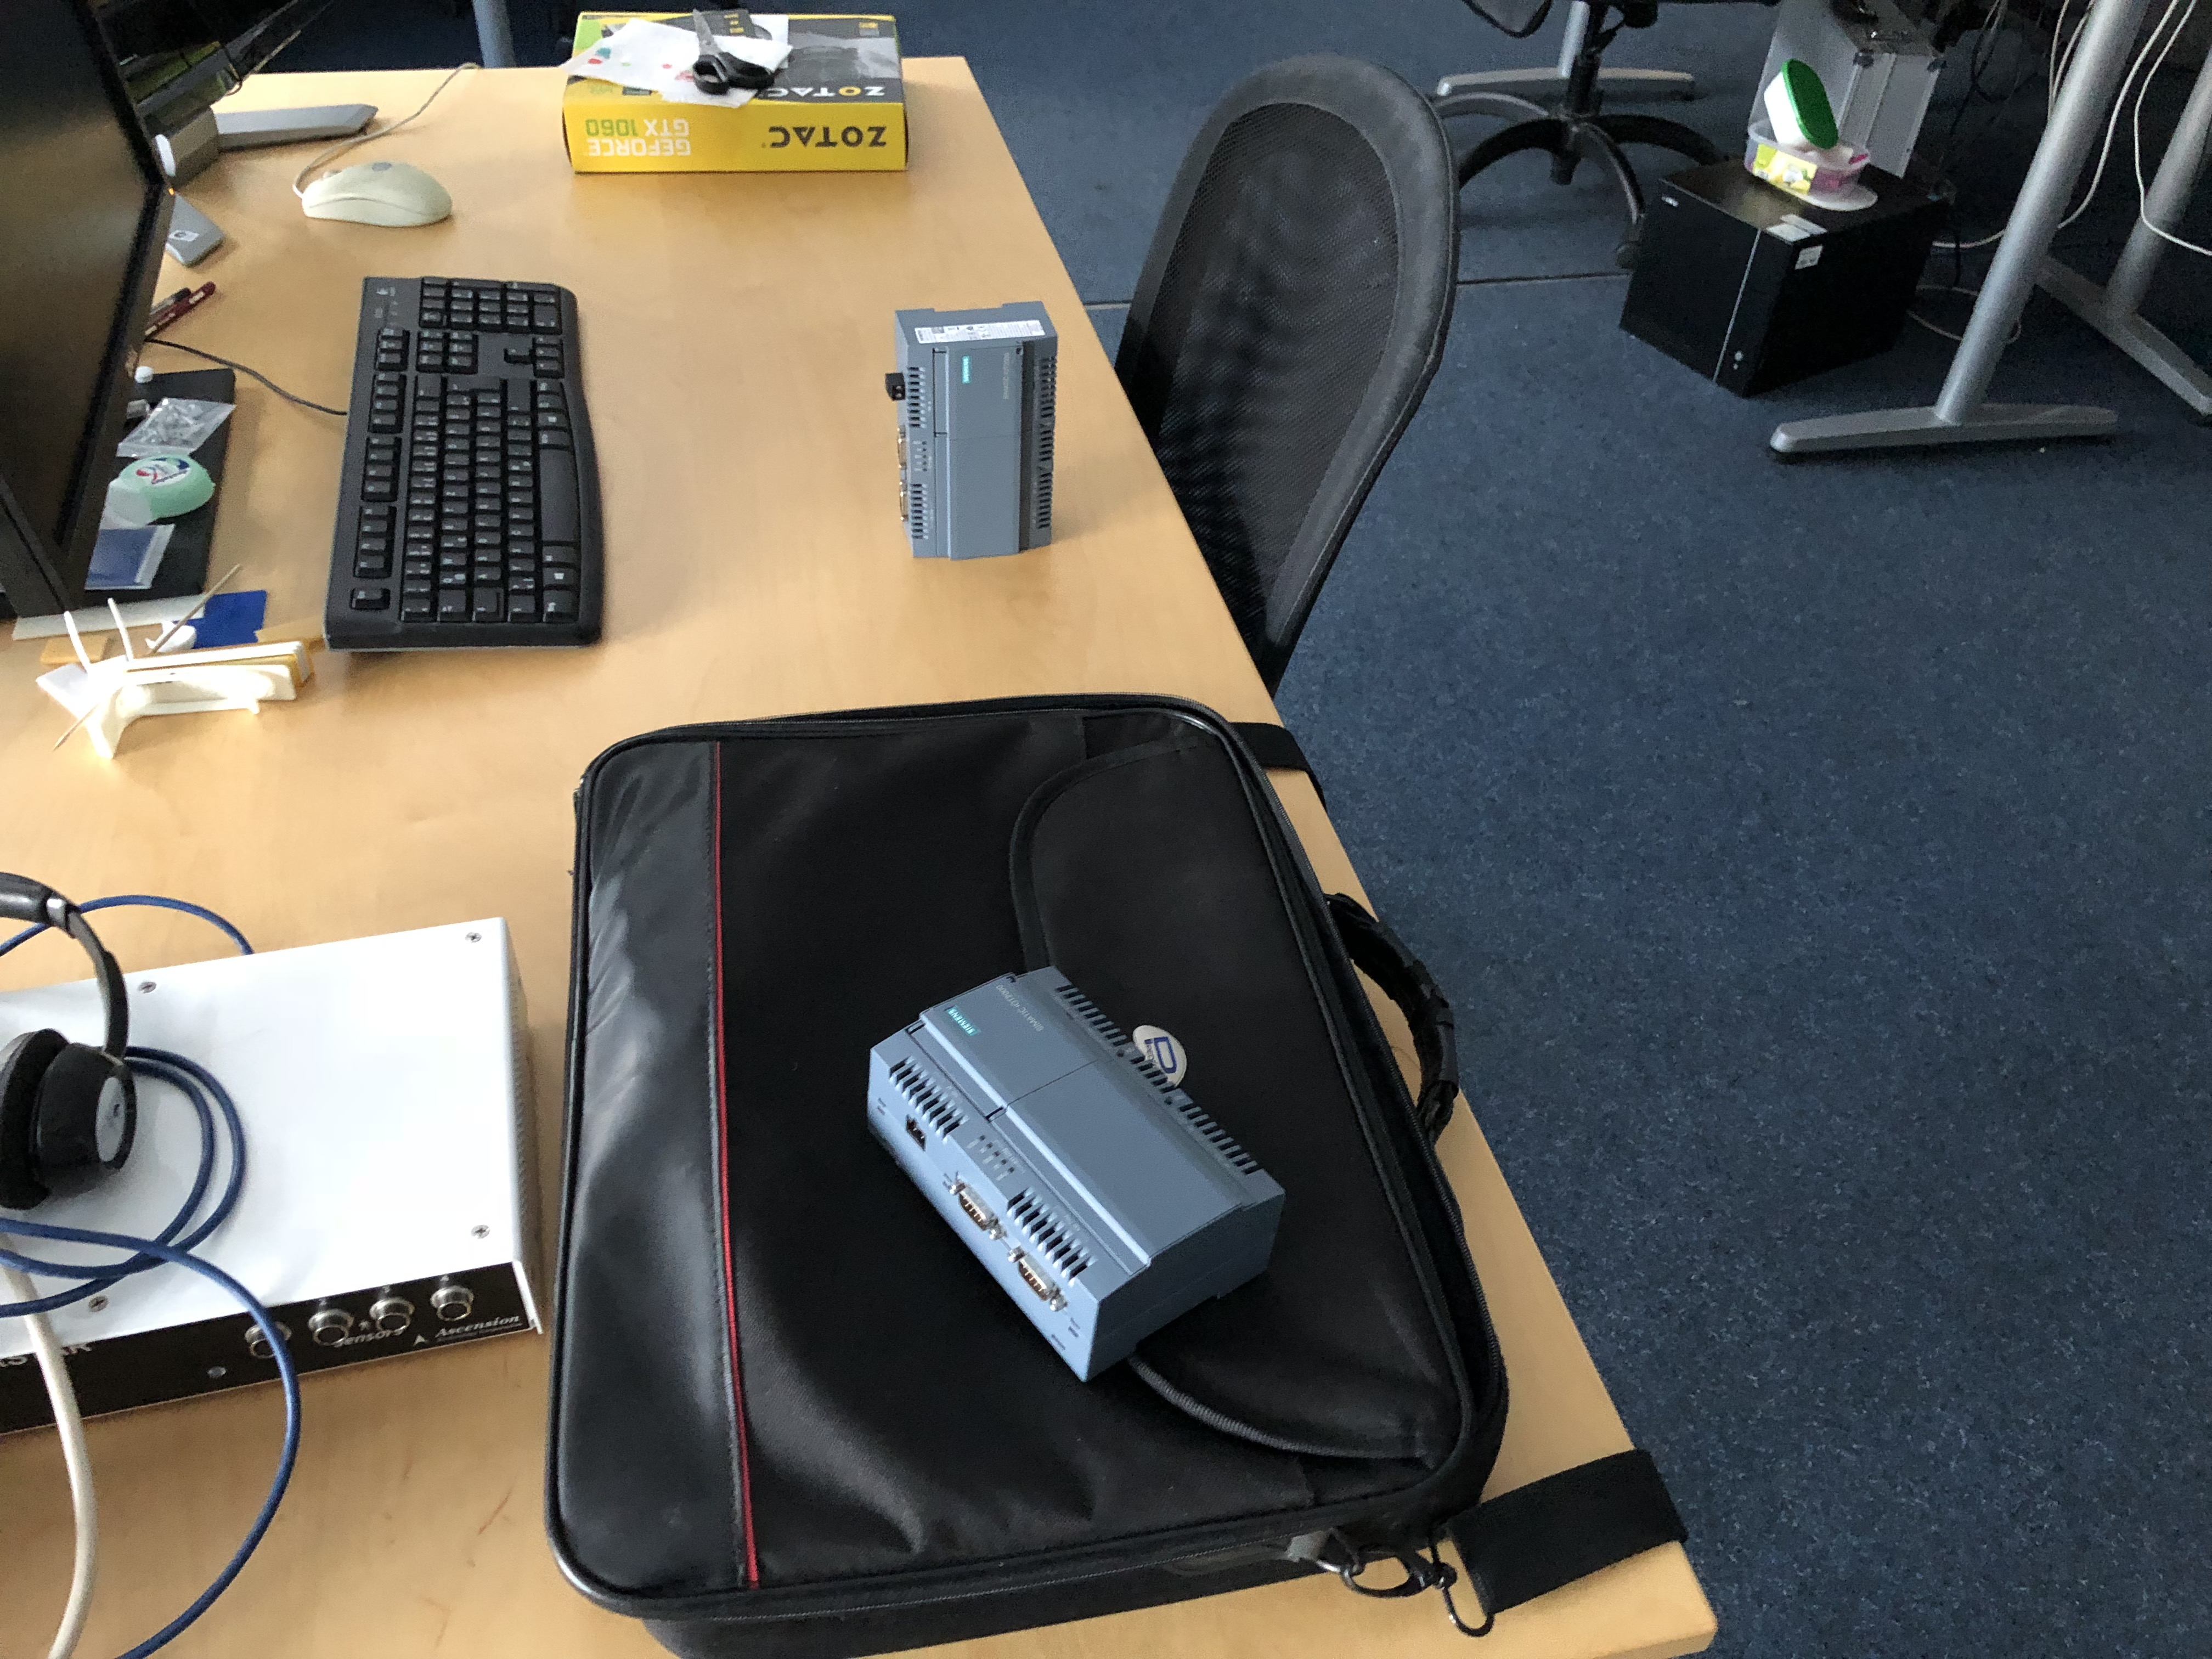device: (866, 964, 1287, 1384)
